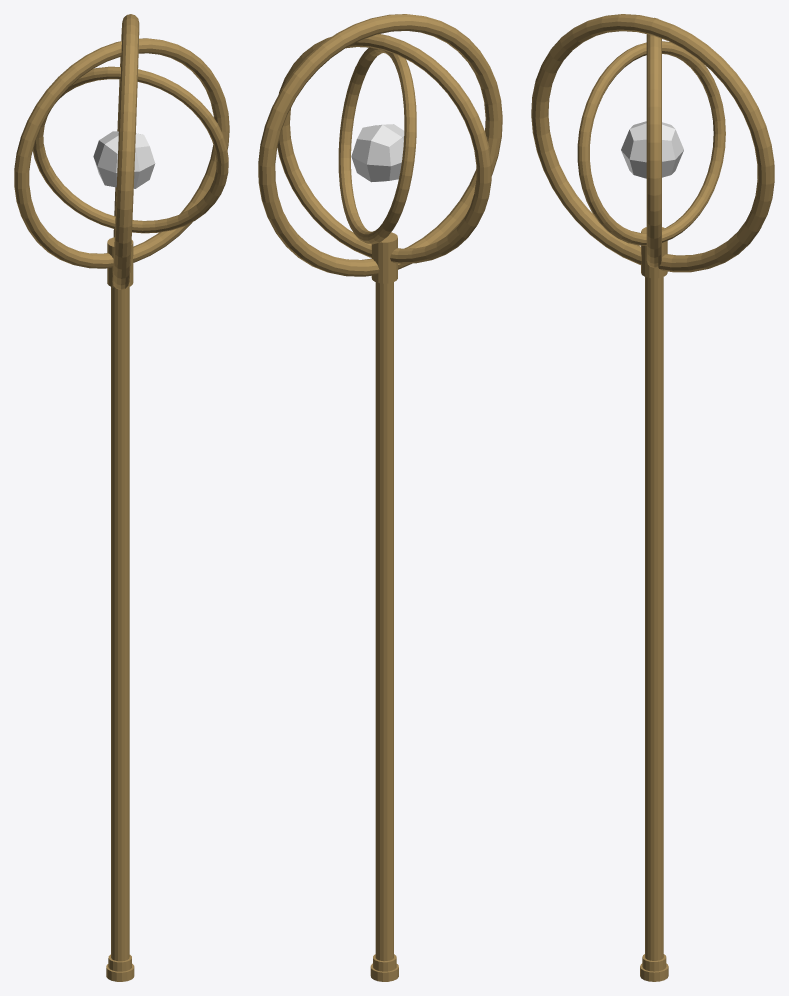
The model's file is Monster_weapon.fbx.
3 renders of one model, left to right at view 1: azimuth 30°, elevation 25°; view 2: azimuth 150°, elevation 25°; view 3: azimuth 270°, elevation 25°, orthographic.
Parts seen in each view (by area): view 1: 柱体.001, 环体.004, 环体.006, 环体.005, 立方体.013; view 2: 柱体.001, 环体.005, 环体.004, 环体.006, 立方体.013; view 3: 柱体.001, 环体.005, 环体.006, 环体.004, 立方体.013.
Boxes of the visible parts, left/top/right/bottom form: 柱体.001: left=106, top=237, right=134, bottom=981; 环体.004: left=14, top=38, right=229, bottom=268; 环体.006: left=33, top=66, right=228, bottom=233; 环体.005: left=112, top=14, right=139, bottom=289; 立方体.013: left=93, top=131, right=155, bottom=188; 柱体.001: left=370, top=232, right=398, bottom=981; 环体.005: left=258, top=14, right=502, bottom=276; 环体.004: left=277, top=34, right=491, bottom=263; 环体.006: left=338, top=47, right=416, bottom=244; 立方体.013: left=351, top=124, right=404, bottom=182; 柱体.001: left=640, top=227, right=668, bottom=981; 环体.005: left=531, top=14, right=774, bottom=272; 环体.006: left=577, top=41, right=725, bottom=245; 环体.004: left=646, top=17, right=661, bottom=267; 立方体.013: left=621, top=121, right=683, bottom=178.
Bounding box in the file's own units: 42.69 × 181 × 41.6.
